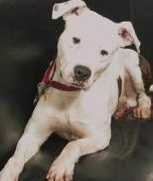Dog: (22, 0, 150, 162)
